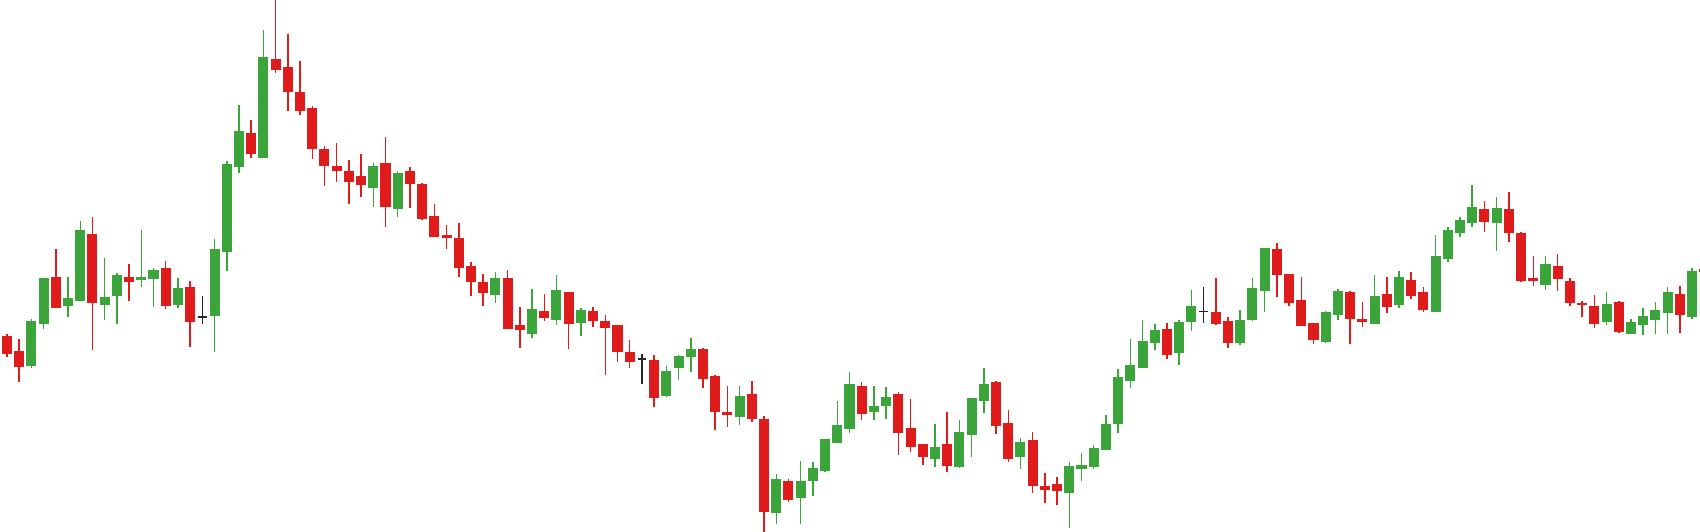sell: (905, 368, 1001, 447)
